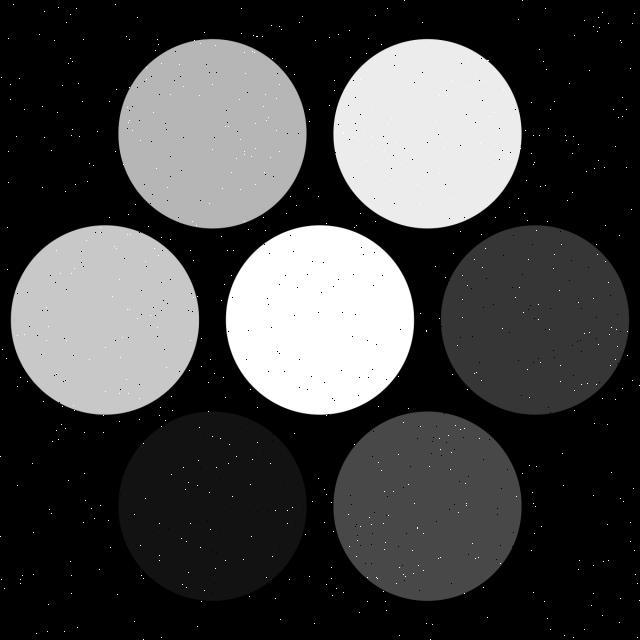Circle: (334, 410, 524, 604), (119, 411, 308, 604), (333, 38, 523, 228), (226, 224, 416, 413), (441, 225, 631, 414), (120, 38, 306, 228), (14, 226, 198, 412)
